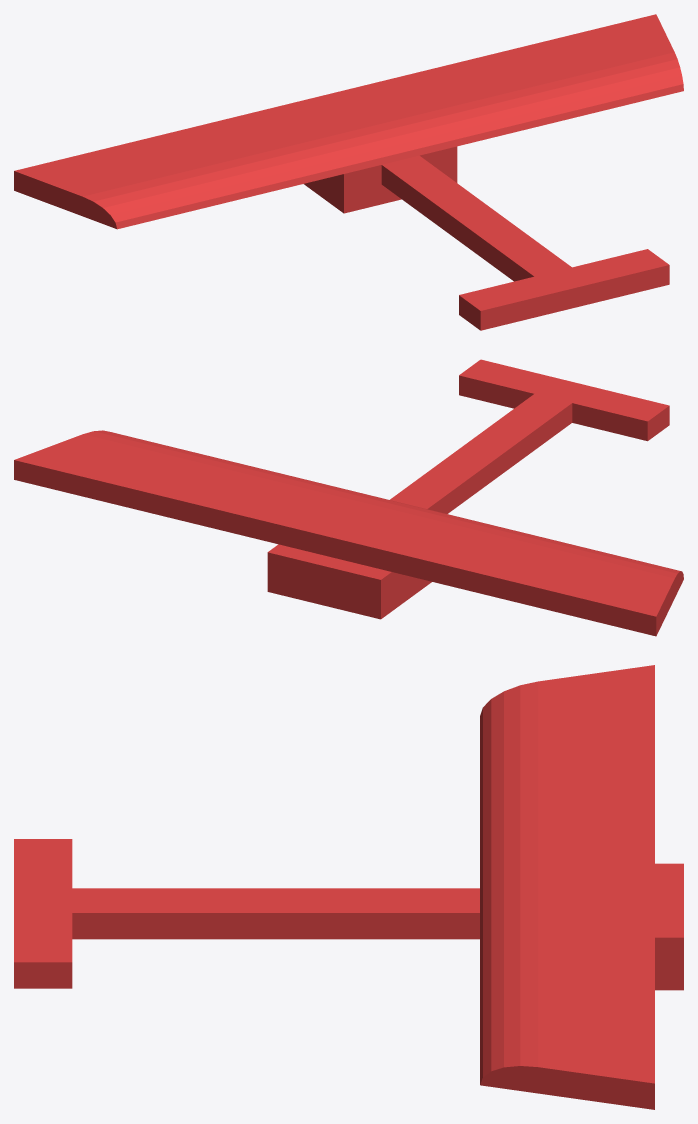
Rendered from BleriotXIMonoplaneRed.dae.
The picture shows the model from 3 angles, top to bottom: view 1: azimuth 30°, elevation 25°; view 2: azimuth 150°, elevation 25°; view 3: azimuth 270°, elevation 25°; orthographic projection. The views are drawn at different scales.
Visible parts, largest first — view 1: Cube.008, Cube.010, Cube.011, Cube.009; view 2: Cube.008, Cube.010, Cube.011, Cube.009; view 3: Cube.008, Cube.010, Cube.011, Cube.009.
Part boxes in pixels (left/top/right/bottom): Cube.008: left=14, top=14, right=683, bottom=229; Cube.010: left=381, top=155, right=571, bottom=281; Cube.011: left=459, top=249, right=669, bottom=330; Cube.009: left=304, top=146, right=457, bottom=213; Cube.008: left=14, top=430, right=683, bottom=636; Cube.010: left=390, top=394, right=572, bottom=513; Cube.011: left=459, top=359, right=669, bottom=441; Cube.009: left=267, top=544, right=431, bottom=619; Cube.008: left=480, top=665, right=654, bottom=1109; Cube.010: left=72, top=888, right=479, bottom=939; Cube.011: left=14, top=839, right=72, bottom=988; Cube.009: left=655, top=863, right=683, bottom=990.
Size of the model in its own units: 6.8 by 4.6 by 0.6.
